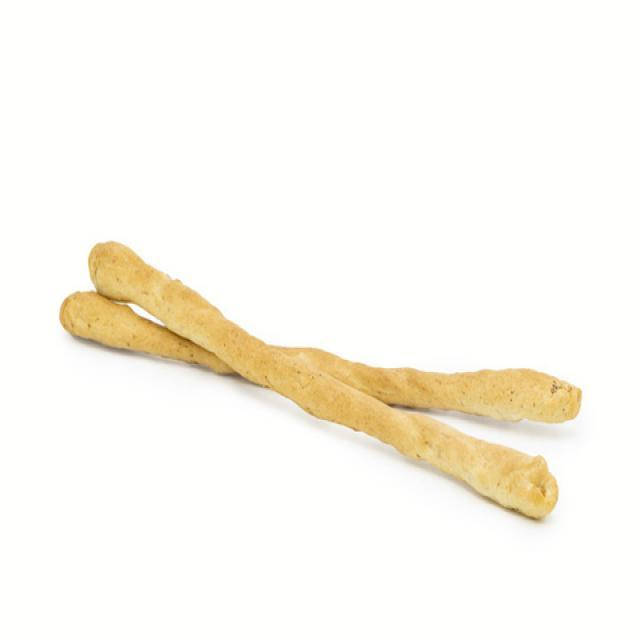Grissini: (57, 239, 581, 517)
